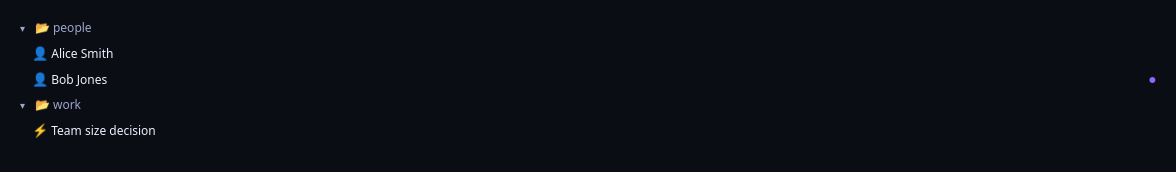
FileTree — context menu › Delete shows inline confirm
Right-click the button with test id "tree-file" showing "👤 Alice Smith".
right_click(82, 53)  # box [12,40,1164,66]
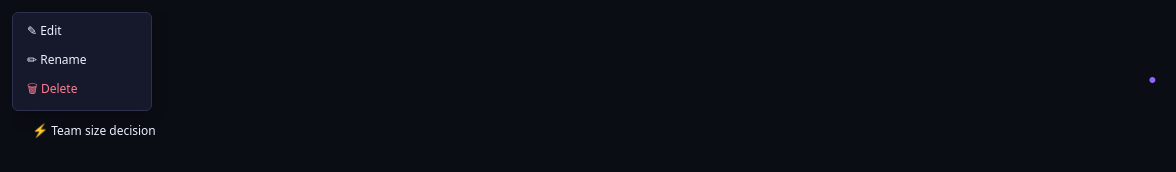
Click the menu item with test id "context-delete".
click(82, 90)  # box [13,74,151,107]
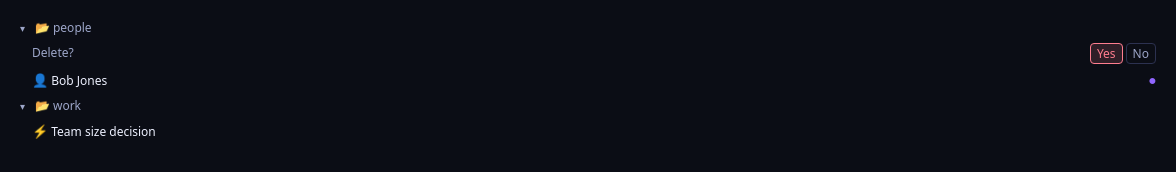
Check: the button with test id "delete-confirm-btn" is shown, box [1090,43,1123,64]
Check: the button with test id "delete-cancel-btn" is shown, box [1126,43,1156,64]
